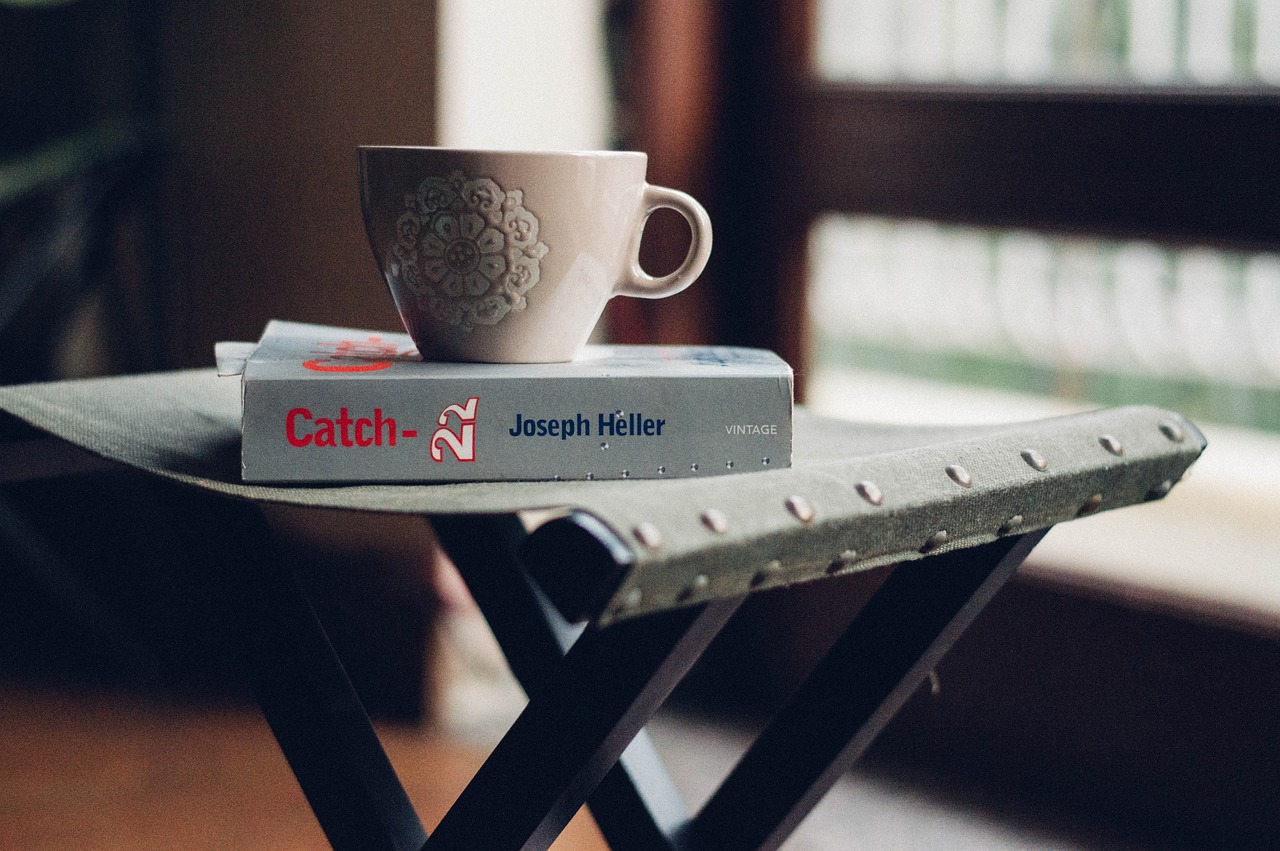mug: (334, 117, 748, 383)
